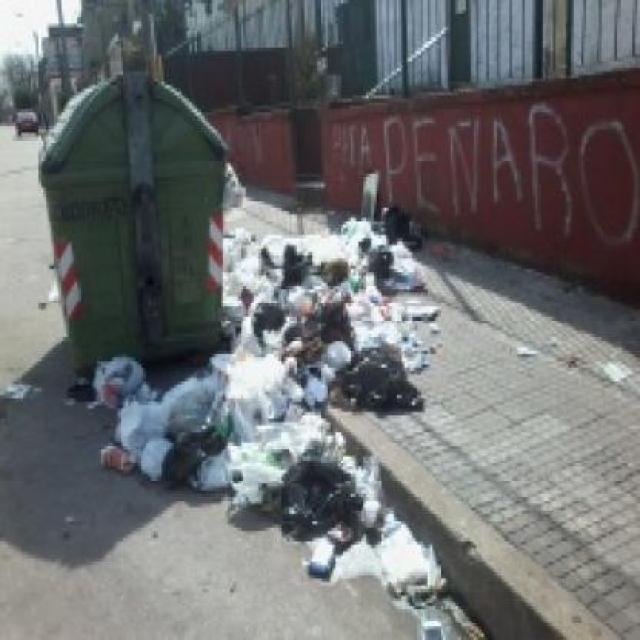garbage: (80, 359, 402, 488), (297, 480, 484, 633), (225, 219, 420, 358)
